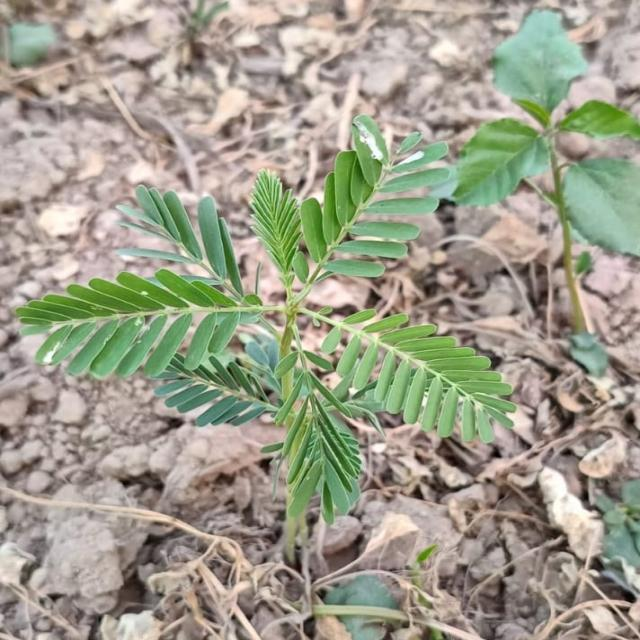plant: (17, 115, 515, 519)
